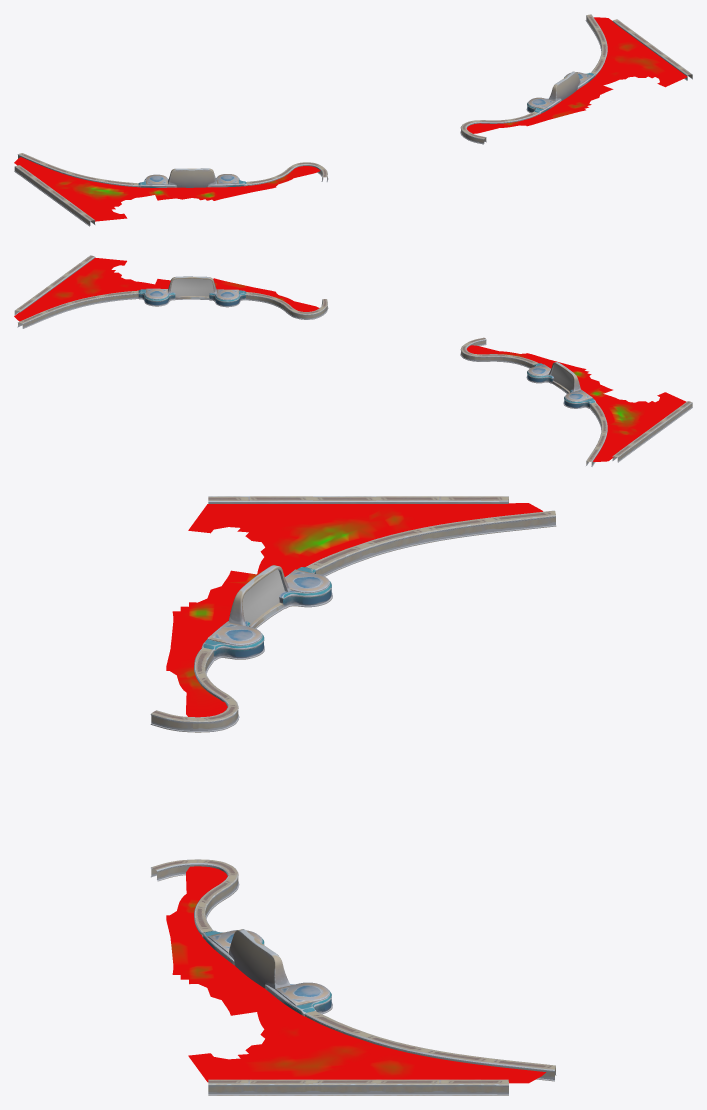
The model's file is pref_Area_Winter_Top_Forest_beta_01_lv3.fbx.
3 views of the same model, one above another, from view 1: azimuth 30°, elevation 25°; view 2: azimuth 150°, elevation 25°; view 3: azimuth 270°, elevation 25° (orthographic). The views are drawn at different scales.
Visible parts, largest first — view 1: pref_sm_beach_winter_techfield_a_lv3, pref_sm_beach_winter_techfield_a_mirror_lv3, sm_beach_winter_techfield_b_mirror_lv3, sm_beach_winter_techfield_b_lv3; view 2: pref_sm_beach_winter_techfield_a_mirror_lv3, sm_beach_winter_techfield_b_lv3, pref_sm_beach_winter_techfield_a_lv3, sm_beach_winter_techfield_b_mirror_lv3, pref_sm_beach_winter_techled01a_lv3, pref_sm_beach_winter_techled01a_mirror_lv3; view 3: pref_sm_beach_winter_techfield_a_lv3, pref_sm_beach_winter_techfield_a_mirror_lv3, sm_beach_winter_techfield_b_lv3, sm_beach_winter_techfield_b_mirror_lv3, pref_sm_beach_winter_techled01a_mirror_lv3.
Part boxes in pixels (x1,y1,x2,y2): pref_sm_beach_winter_techfield_a_lv3: [466, 17, 687, 133]; pref_sm_beach_winter_techfield_a_mirror_lv3: [14, 157, 320, 221]; sm_beach_winter_techfield_b_mirror_lv3: [14, 153, 328, 226]; sm_beach_winter_techfield_b_lv3: [460, 14, 692, 144]; pref_sm_beach_winter_techfield_a_mirror_lv3: [466, 345, 686, 461]; sm_beach_winter_techfield_b_lv3: [14, 255, 328, 328]; pref_sm_beach_winter_techfield_a_lv3: [14, 257, 319, 321]; sm_beach_winter_techfield_b_mirror_lv3: [460, 337, 692, 466]; pref_sm_beach_winter_techled01a_lv3: [170, 279, 213, 296]; pref_sm_beach_winter_techled01a_mirror_lv3: [551, 364, 573, 391]; pref_sm_beach_winter_techfield_a_lv3: [166, 866, 545, 1083]; pref_sm_beach_winter_techfield_a_mirror_lv3: [166, 503, 542, 717]; sm_beach_winter_techfield_b_lv3: [151, 859, 556, 1095]; sm_beach_winter_techfield_b_mirror_lv3: [150, 496, 556, 732]; pref_sm_beach_winter_techled01a_mirror_lv3: [242, 569, 284, 624].
Bounding box in the file's own units: 138 × 4.47 × 40.05.
